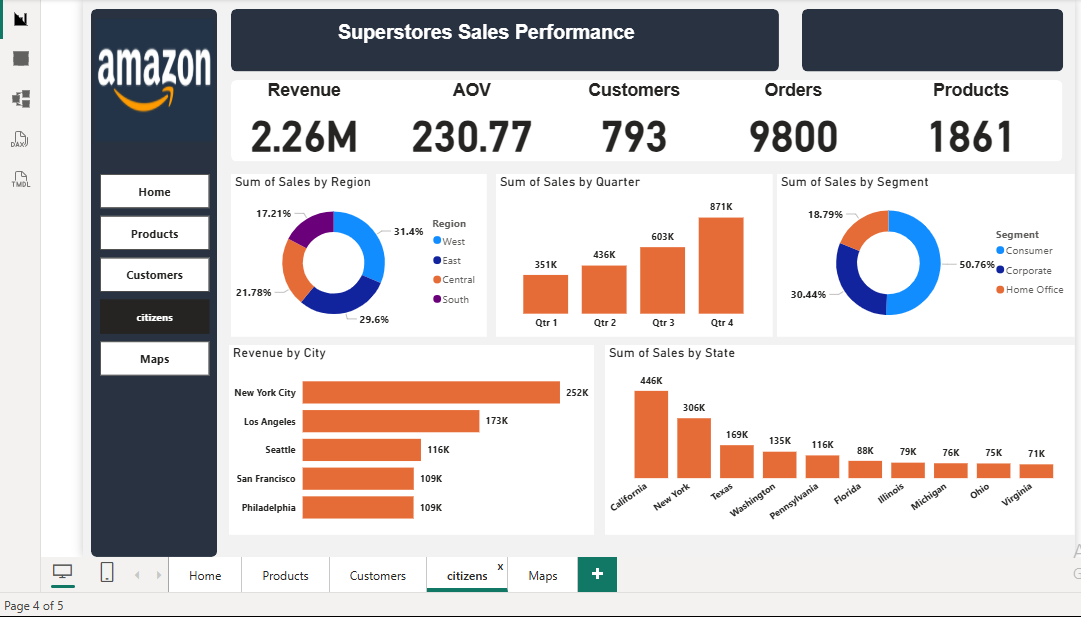

What the dashboard file says about the page in this screenshot:
{"tool":"powerbi","page":{"name":"citizens ","canvas":[1280,720],"ordinal":3},"visuals":[{"type":"shape","box":[191.5,13,707,80.6],"z":0},{"type":"shape","box":[927.4,13,337,80.6],"z":1000},{"type":"shape","box":[10.1,13,162.7,707],"z":2000},{"type":"shape","box":[191.5,105.1,1072.8,105.1],"z":3000},{"type":"card","title":"Revenue","fields":{"Values":["train.Revenue"]},"box":[191.5,105.1,188.6,105.1],"z":4000},{"type":"card","title":"Customers","fields":{"Values":["train.Customers"]},"box":[614.9,105.1,191.5,105.1],"z":5000},{"type":"card","title":"Orders","fields":{"Values":["train.Orders"]},"box":[806.4,105.1,220.3,105.1],"z":6000},{"type":"card","title":"Products","fields":{"Values":["train.Products"]},"box":[1026.7,105.1,237.6,105.1],"z":7000},{"type":"card","title":"AOV","fields":{"Values":["train.AOV"]},"box":[398.9,105.1,205.9,105.1],"z":8000},{"type":"clusteredBarChart","fields":{"Category":["train.City"],"Y":["train.Revenue"]},"box":[188.6,446.4,470.9,244.8],"z":9000},{"type":"columnChart","fields":{"Category":["train.State"],"Y":["Sum(train.Sales)"]},"box":[673.9,446.4,606.2,244.8],"z":10000},{"type":"donutChart","fields":{"Category":["train.Segment"],"Y":["Sum(train.Sales)"]},"box":[895.7,226.1,384.5,210.2],"z":11000},{"type":"donutChart","fields":{"Category":["train.Region"],"Y":["Sum(train.Sales)"]},"box":[191.5,226.1,329.8,210.2],"z":12000},{"type":"columnChart","fields":{"Category":["train.Order Date.Variation.Date Hierarchy.Quarter"],"Y":["Sum(train.Sales)"]},"box":[532.8,226.1,357.1,210.2],"z":13000},{"type":"pageNavigator","box":[21.6,226.1,141.1,260.6],"z":14000},{"type":"image","box":[10.1,20.2,162.7,168.5],"z":15000},{"type":"textbox","title":"Superstores  Sales Performance ","box":[286.6,28.8,468,64.8],"z":16000}]}

Visuals, with their boxes on the page's 1280x720 design canvas (x1, y1, x2, y2). These are canvas units, not pixel positions in the 1081x617 screenshot, which may show the page scaled, cropped or inside an application window:
shape: [left=192, top=13, right=898, bottom=94]
shape: [left=927, top=13, right=1264, bottom=94]
shape: [left=10, top=13, right=173, bottom=720]
shape: [left=192, top=105, right=1264, bottom=210]
"Revenue" card: [left=192, top=105, right=380, bottom=210]
"Customers" card: [left=615, top=105, right=806, bottom=210]
"Orders" card: [left=806, top=105, right=1027, bottom=210]
"Products" card: [left=1027, top=105, right=1264, bottom=210]
"AOV" card: [left=399, top=105, right=605, bottom=210]
clusteredBarChart - train.City x train.Revenue: [left=189, top=446, right=660, bottom=691]
columnChart - train.State x Sum(train.Sales): [left=674, top=446, right=1280, bottom=691]
donutChart - train.Segment x Sum(train.Sales): [left=896, top=226, right=1280, bottom=436]
donutChart - train.Region x Sum(train.Sales): [left=192, top=226, right=521, bottom=436]
columnChart - train.Order Date.Variation.Date Hierarchy.Quarter x Sum(train.Sales): [left=533, top=226, right=890, bottom=436]
pageNavigator: [left=22, top=226, right=163, bottom=487]
image: [left=10, top=20, right=173, bottom=189]
"Superstores  Sales Performance " textbox: [left=287, top=29, right=755, bottom=94]
